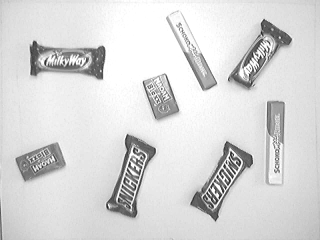Maoam: (14, 140, 68, 184), (141, 72, 181, 122)
Milkyway: (226, 17, 294, 92), (27, 38, 108, 83)
Riegel: (164, 8, 219, 93), (264, 97, 286, 188)
Snickers: (189, 138, 255, 224), (103, 132, 158, 221)
